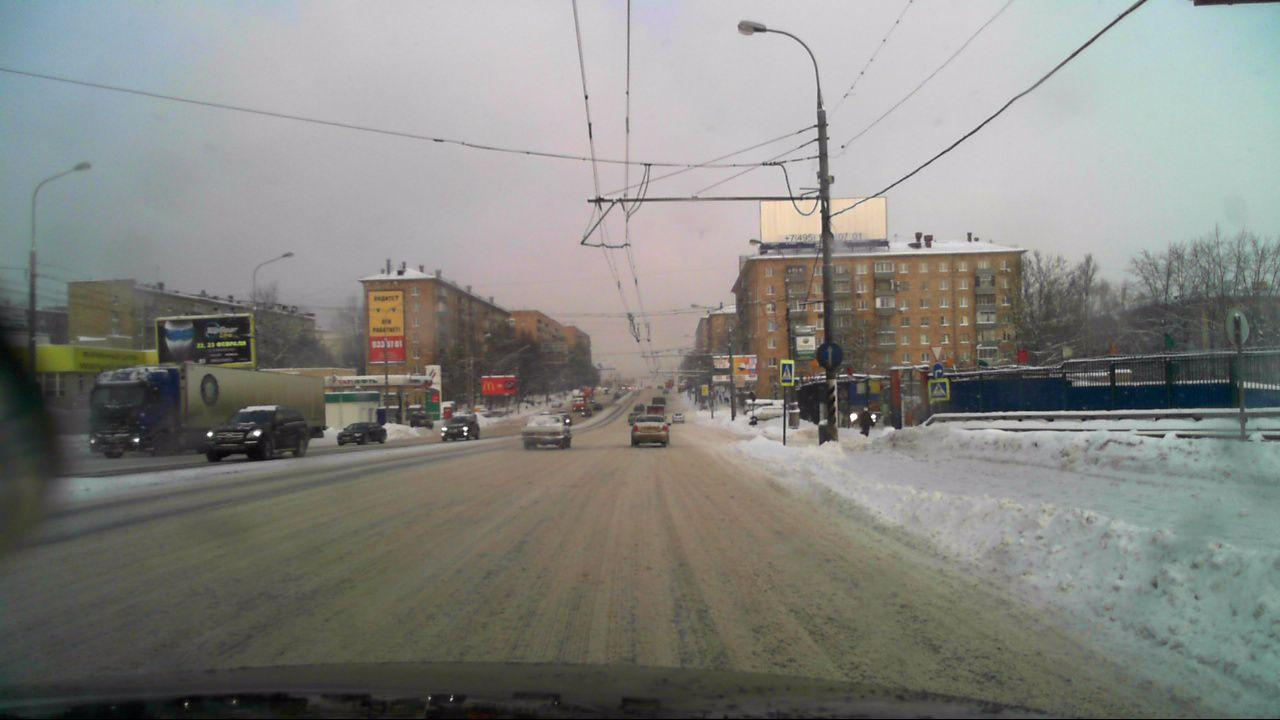road_sign: (816, 342, 843, 369), (928, 379, 950, 401), (779, 359, 795, 386), (929, 346, 945, 361), (932, 364, 945, 378)
